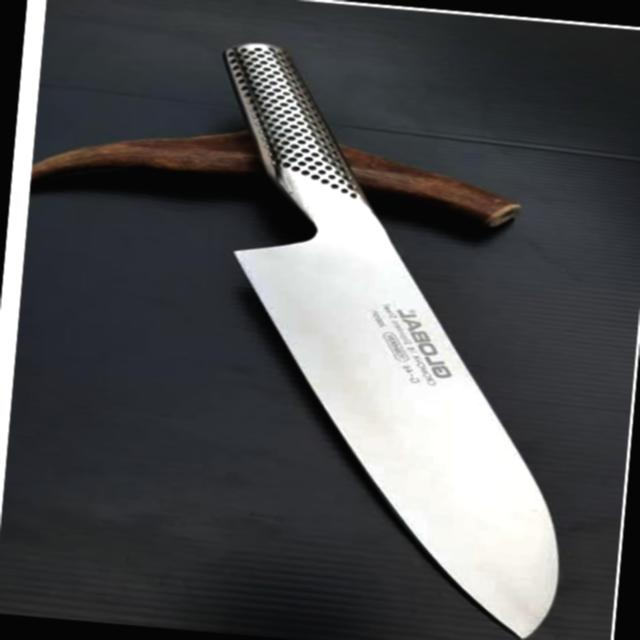knife: (140, 31, 612, 640)
